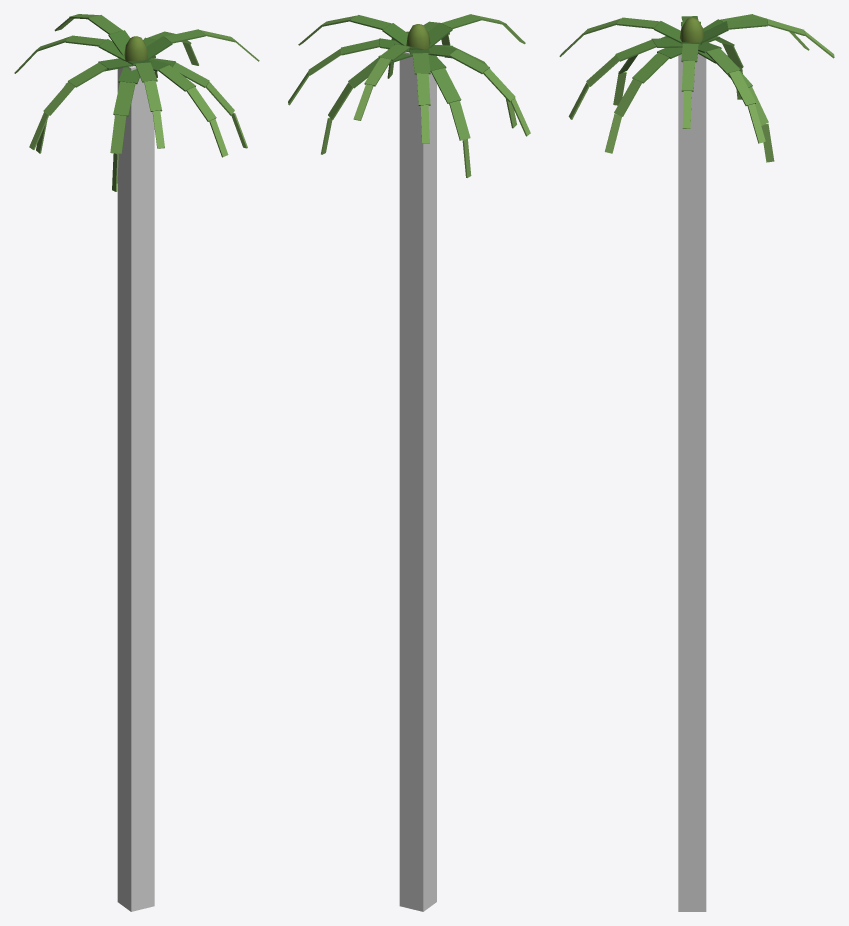
The model's file is palma_de_cera.glb.
The picture shows the model from 3 angles, left to right: view 1: azimuth 30°, elevation 25°; view 2: azimuth 150°, elevation 25°; view 3: azimuth 270°, elevation 25°; orthographic projection. The views are drawn at different scales.
Parts seen in each view (by area): view 1: COL_0, palma_de_cera_Malla; view 2: COL_0, palma_de_cera_Malla; view 3: COL_0, palma_de_cera_Malla.
Part boxes in pixels (left/top/right/bottom): COL_0: left=117, top=66, right=154, bottom=911; palma_de_cera_Malla: left=14, top=14, right=259, bottom=191; COL_0: left=399, top=52, right=436, bottom=911; palma_de_cera_Malla: left=288, top=14, right=530, bottom=177; COL_0: left=678, top=54, right=706, bottom=911; palma_de_cera_Malla: left=559, top=14, right=834, bottom=162.
Size of the model in its own units: 6.74 by 24.7 by 6.94.
